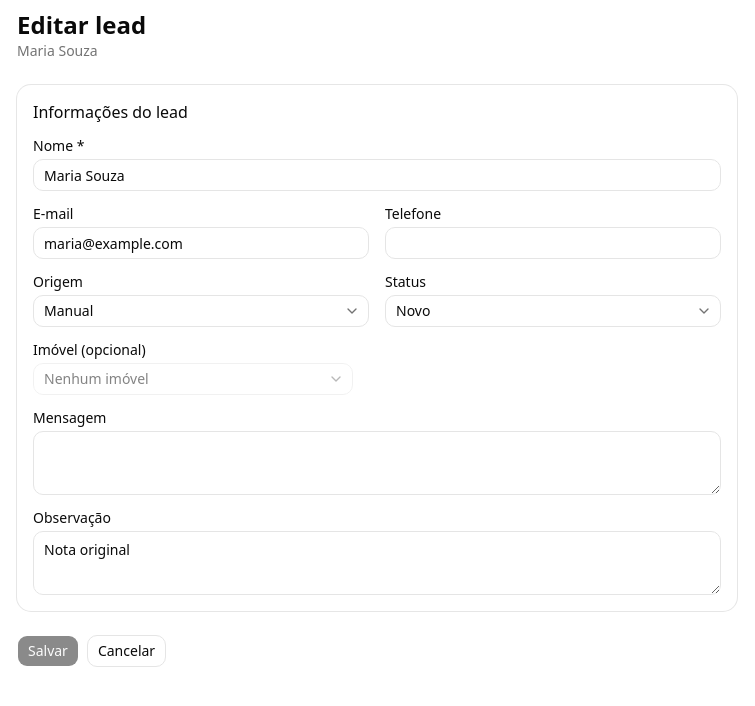
Test case: EditLeadPage › blocks submit client-side when clearing the only remaining contact channel
Expected: the field labelled "Nome *" is shown, [33,159,721,191]
Clear the field labelled "E-mail" at (201, 243), box [33,227,369,259]
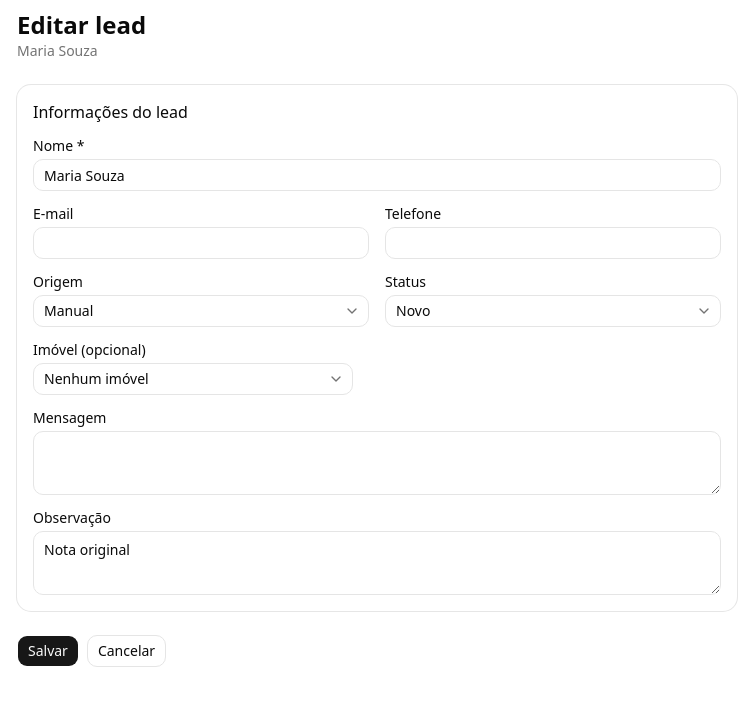
Click the button "Salvar" at (48, 651), box [17,635,79,667]
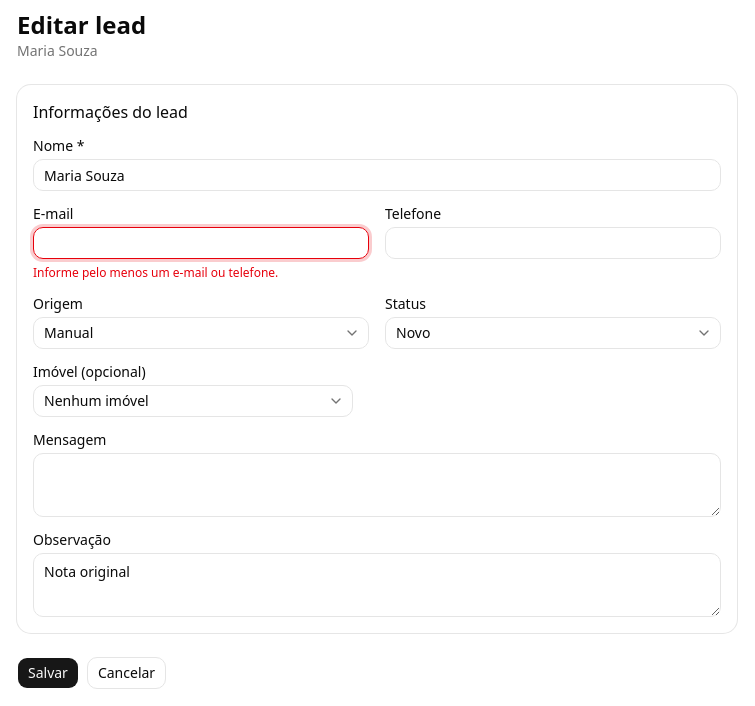
Now the text "Informe pelo menos um e-mail ou telefone." is shown, box [33,264,278,281]
